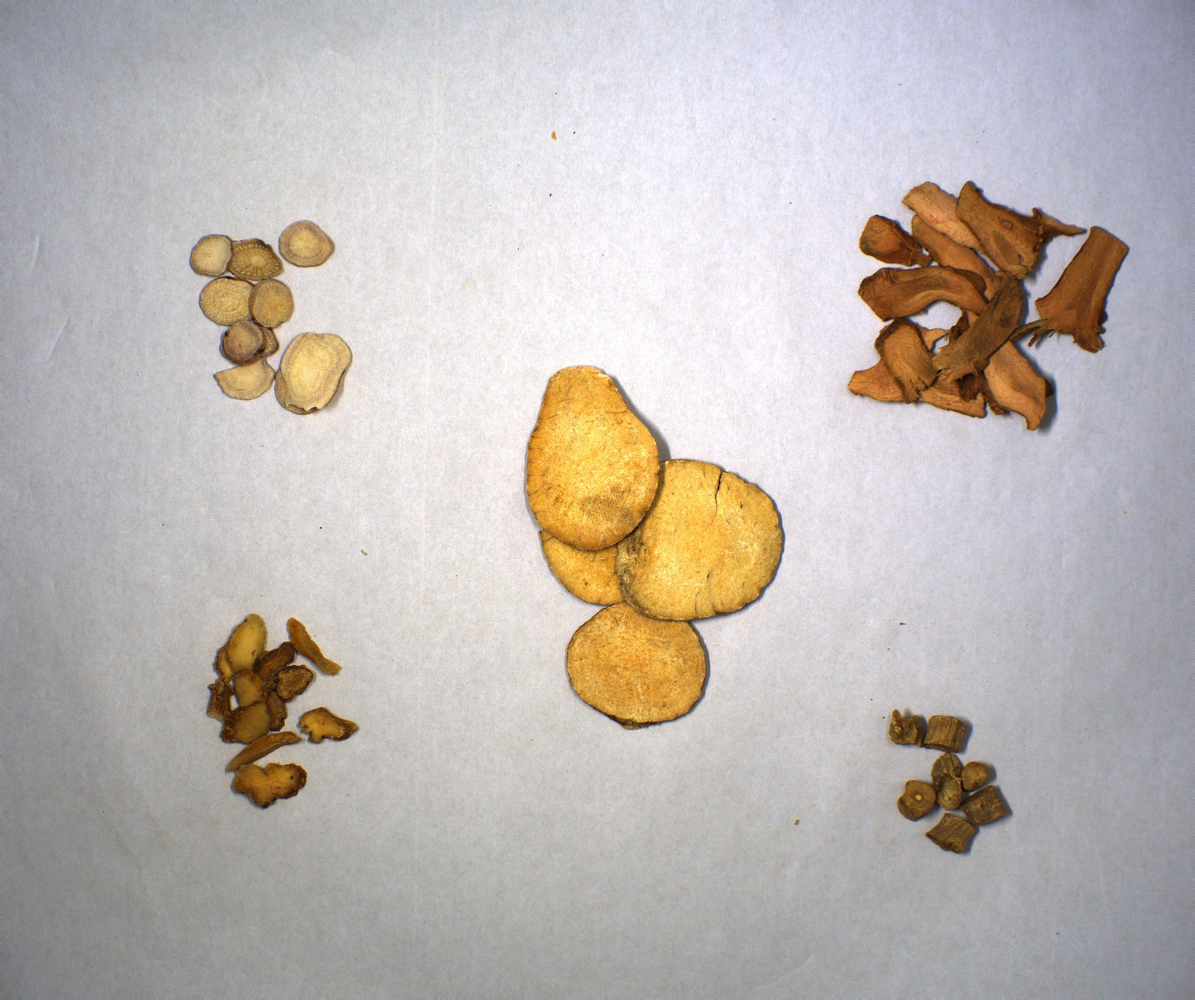baishao: (189, 220, 352, 417)
gaoliangjiang: (848, 179, 1131, 433)
niuxi: (888, 707, 1016, 858)
yuzhu: (201, 614, 362, 813)
zexie: (526, 366, 788, 731)
